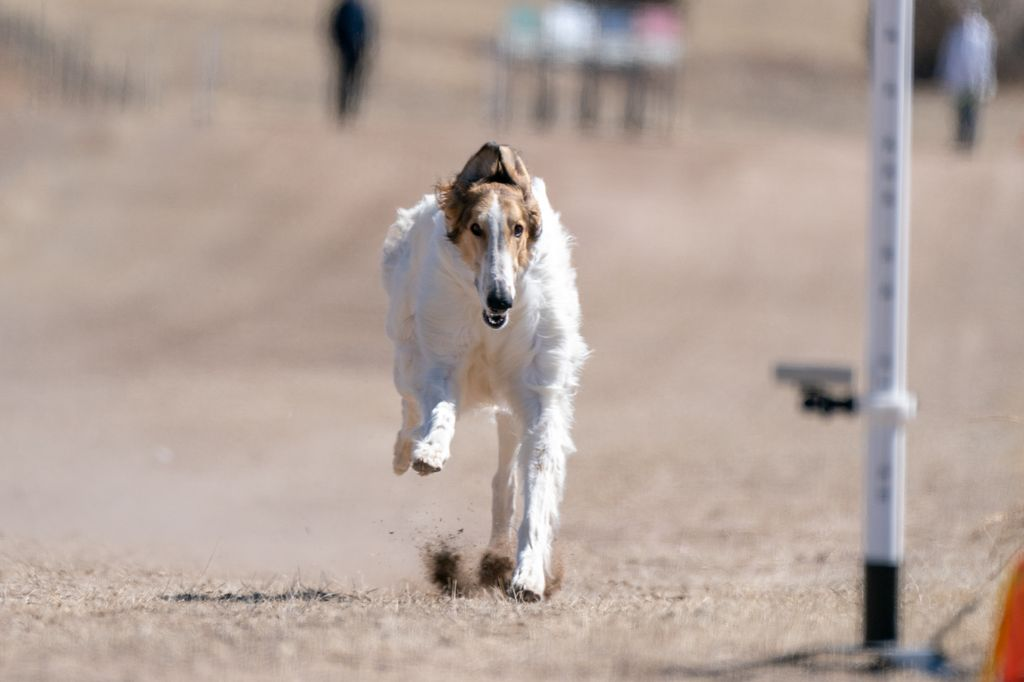borzoi: (351, 121, 666, 613)
